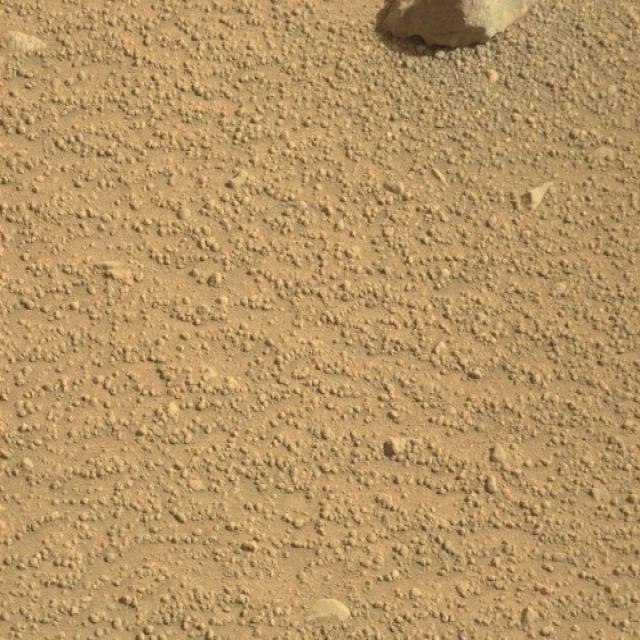rock: (370, 0, 535, 50)
